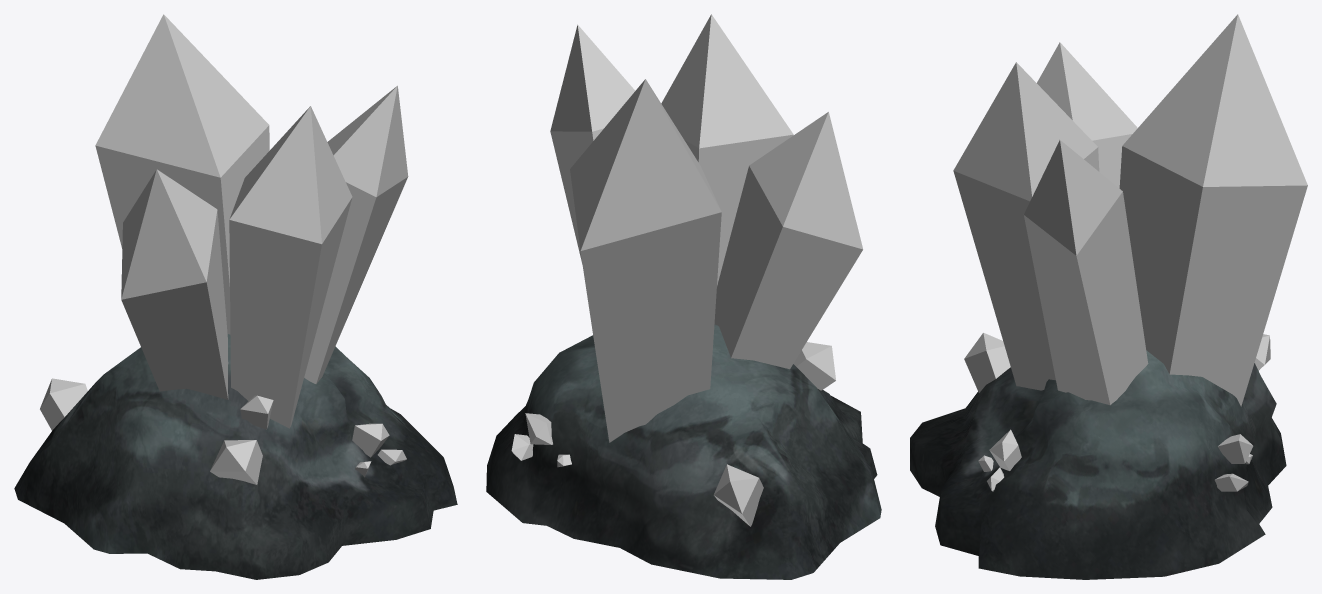
Rendered from Crystal.FBX.
3 views of the same model, side by side, from view 1: azimuth 30°, elevation 25°; view 2: azimuth 150°, elevation 25°; view 3: azimuth 270°, elevation 25° (orthographic). The views are drawn at different scales.
Parts seen in each view (by area): view 1: Crystals, Rock; view 2: Crystals, Rock; view 3: Crystals, Rock.
Boxes of the visible parts, x1,y1,x2,y2 form: Crystals: (40, 14, 408, 484); Rock: (14, 334, 457, 579); Crystals: (511, 14, 863, 526); Rock: (486, 324, 881, 579); Crystals: (953, 14, 1307, 491); Rock: (910, 350, 1286, 579).
Bounding box in the file's own units: 59.47 × 72.5 × 56.04.
